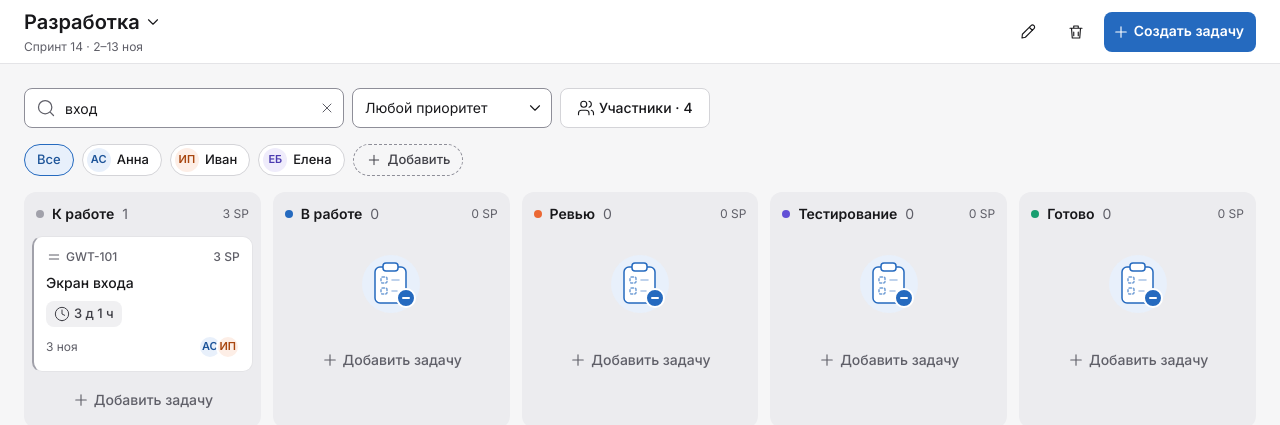
Test: использует внедрённые зависимости для канбана
Expected: the link "Экран входа" is shown, [46, 274, 134, 291]
Expected: the text "График KPI" is not shown
Click the button "Разработка".
click(93, 22)  # box [24, 8, 162, 34]
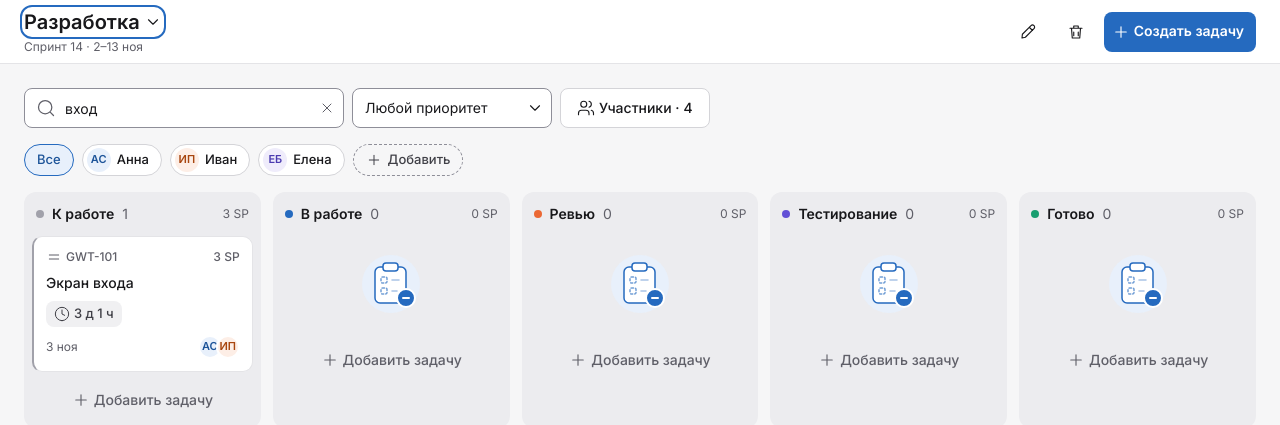
Clear the search field named "Поиск по названию или ключу" at (184, 108), box [24, 88, 344, 128]
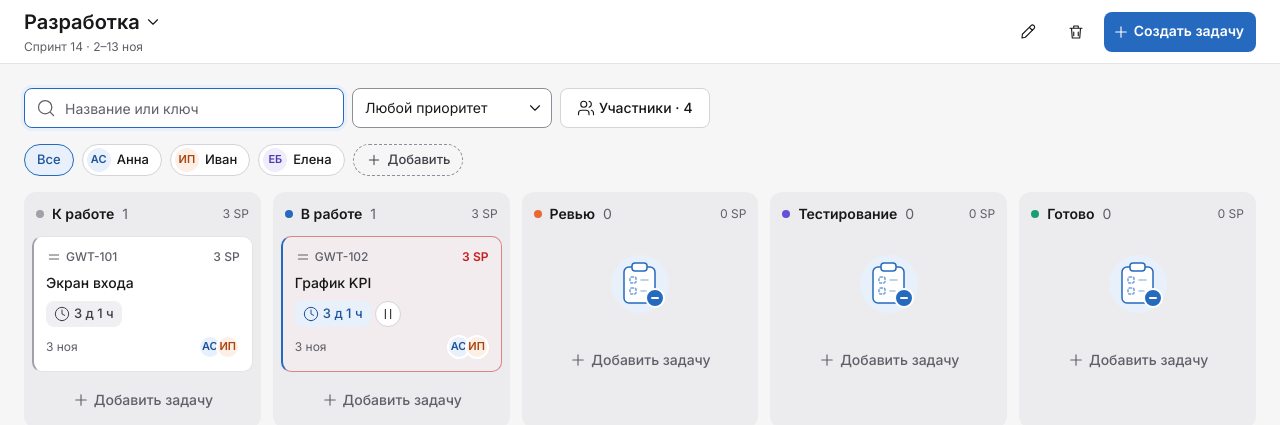
Expected: the link "График KPI" is shown, [295, 274, 371, 291]
